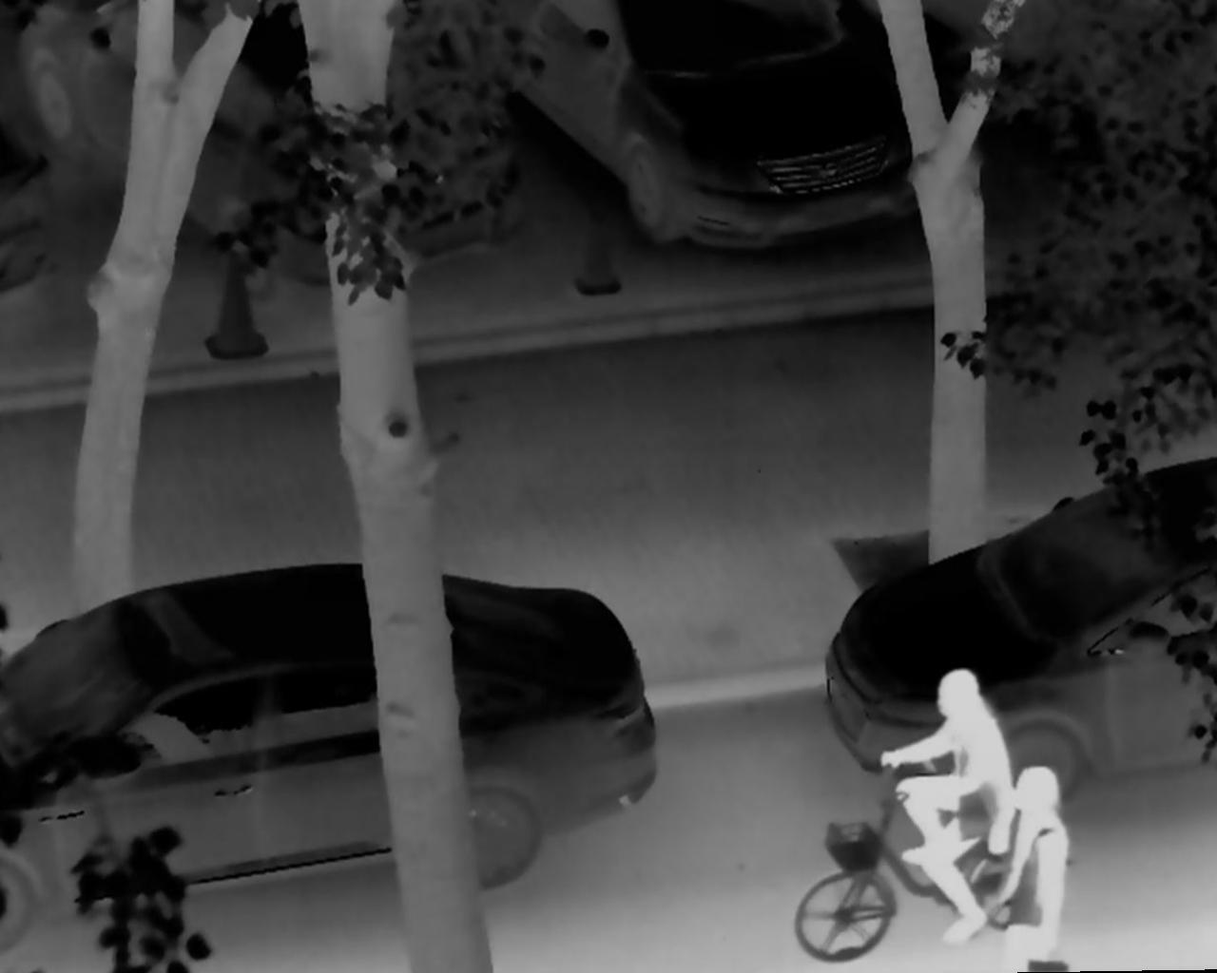person: (885, 663, 1009, 951), (975, 763, 1074, 973)
